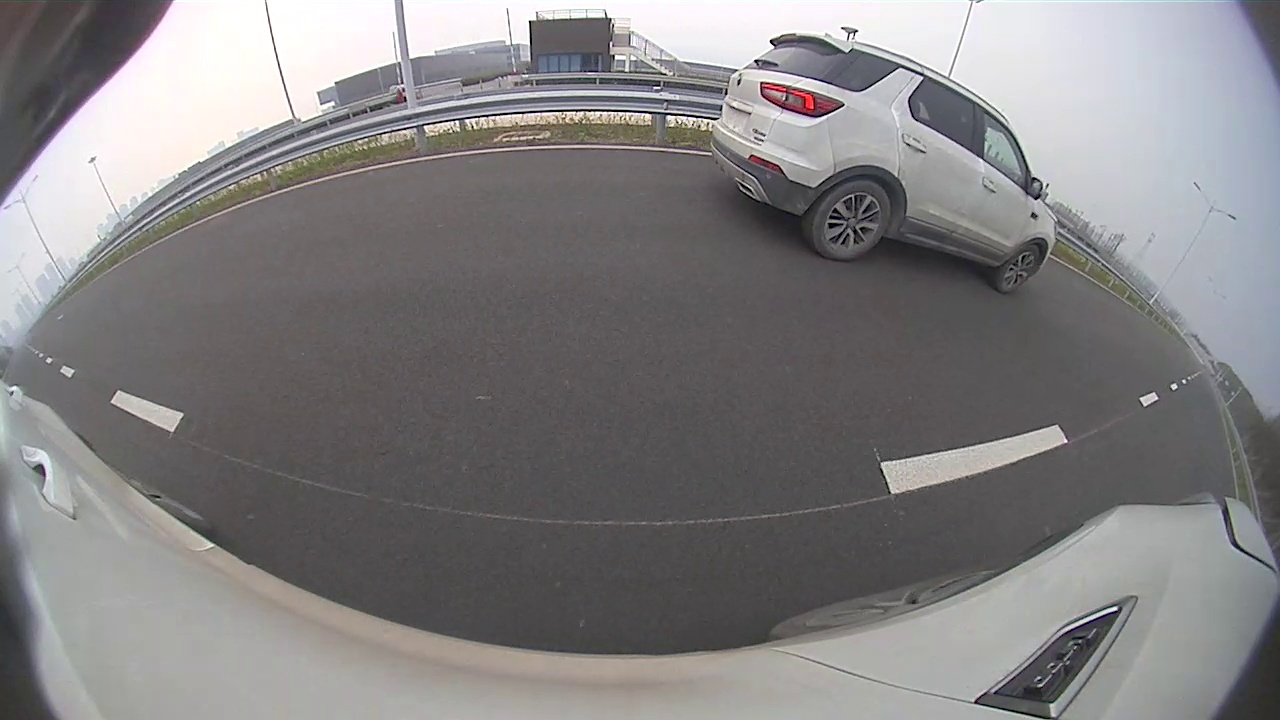car: (709, 33, 1059, 294)
front: (999, 243, 1042, 293)
rear: (812, 181, 892, 262)
